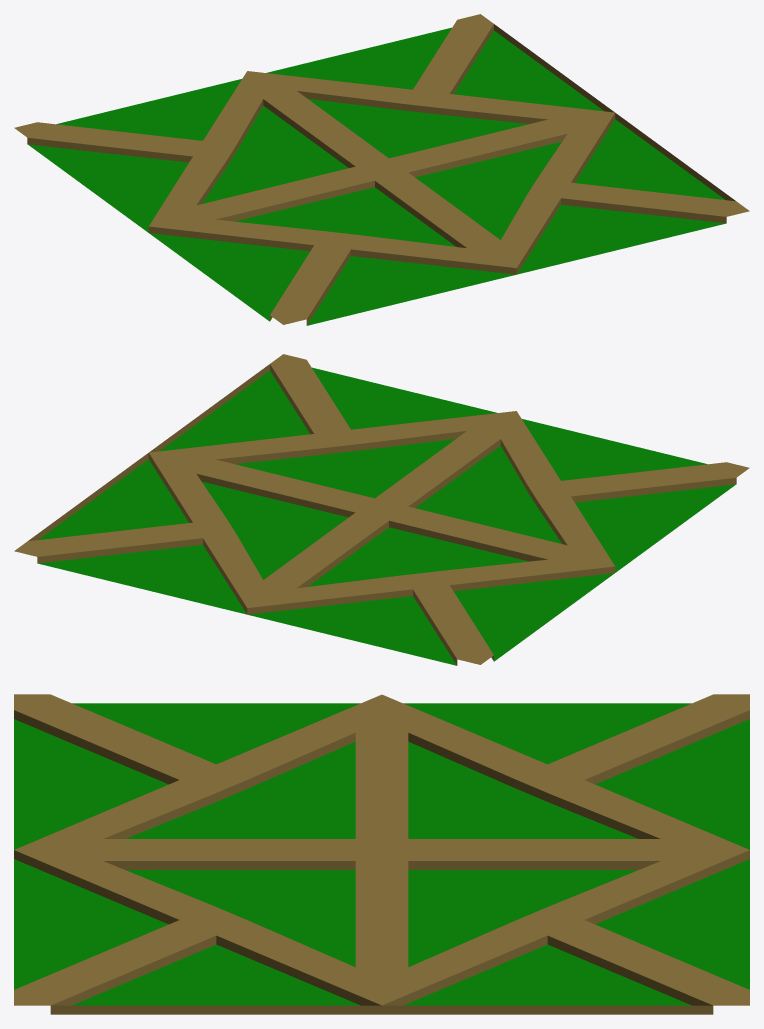
Rendered from Location_strategy.fbx.
The picture shows the model from 3 angles, top to bottom: view 1: azimuth 30°, elevation 25°; view 2: azimuth 150°, elevation 25°; view 3: azimuth 270°, elevation 25°; orthographic projection. The views are drawn at different scales.
Visible parts, largest first — view 1: Location; view 2: Location; view 3: Location.
Boxes of the visible parts, bbox=[...] form: Location: bbox=[14, 14, 749, 325]; Location: bbox=[14, 354, 749, 665]; Location: bbox=[14, 694, 749, 1014].
Bounding box in the file's own units: 1200 × 16.14 × 1200.
